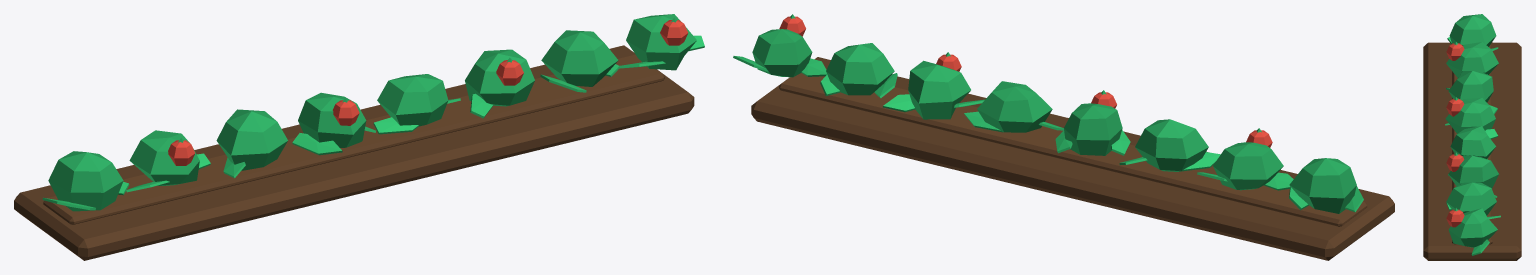
The model's file is veggieRow.glb.
3 renders of one model, left to right at view 1: azimuth 30°, elevation 25°; view 2: azimuth 150°, elevation 25°; view 3: azimuth 270°, elevation 25°, orthographic. The views are drawn at different scales.
Parts seen in each view (by area): view 1: veggieRow-m; view 2: veggieRow-m; view 3: veggieRow-m.
Boxes of the visible parts, <box> form: veggieRow-m: <box>14,14,704,260</box>; veggieRow-m: <box>733,14,1394,260</box>; veggieRow-m: <box>1423,14,1521,260</box>.
Bounding box in the file's own units: 6.44 × 0.745 × 1.2.
